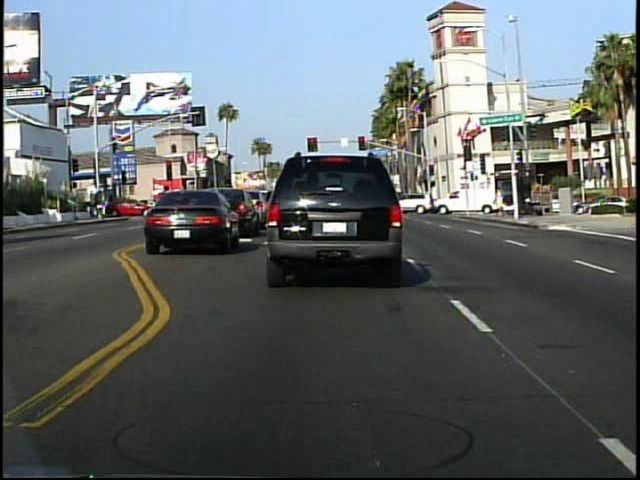person: (489, 184, 507, 221)
